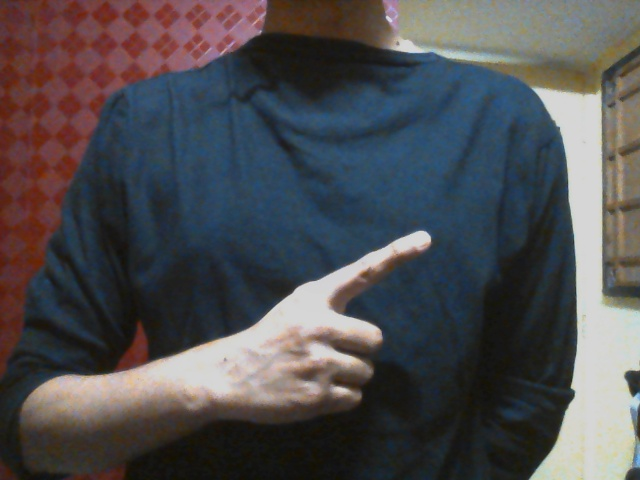I: (236, 229, 441, 427)
